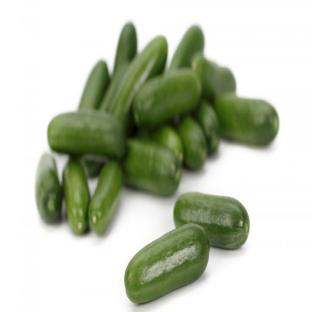Cucumber: (125, 224, 209, 303), (111, 36, 167, 122), (174, 193, 249, 248), (133, 69, 201, 127), (48, 110, 125, 158), (123, 139, 180, 195), (215, 95, 278, 145), (89, 162, 122, 234), (192, 54, 236, 102), (63, 160, 89, 233), (35, 153, 62, 223), (139, 125, 183, 164), (169, 25, 204, 70), (178, 117, 207, 170), (79, 61, 109, 109), (99, 63, 128, 112), (196, 100, 219, 154), (114, 23, 137, 74), (80, 156, 106, 177)
